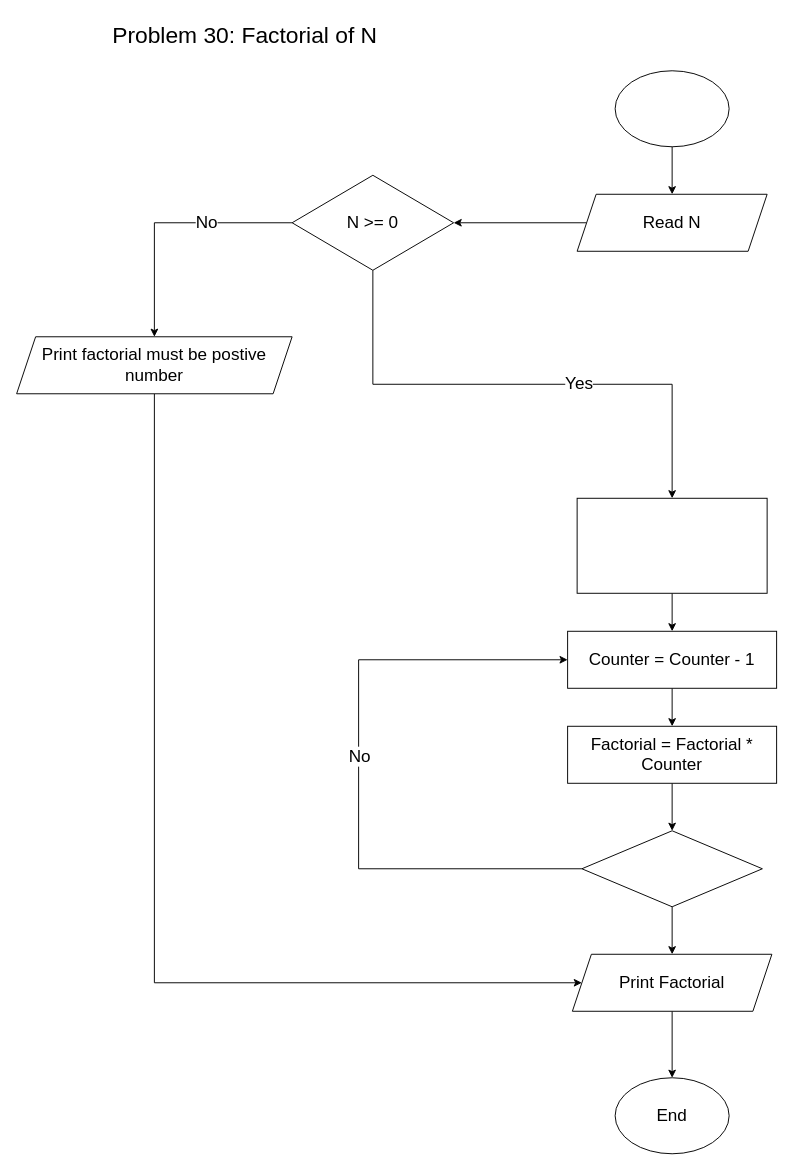
The diagram is 793 pixels wide and 1170 high, and some of its shapes have lost their labels. The shapes that lost their labels are listed below. From the top down, each one's centre as x and y in pixels, then its label:
[671,108]: Start
[671,545]: Counter = N + 1 Factorial = 1
[671,868]: Conter = 1
